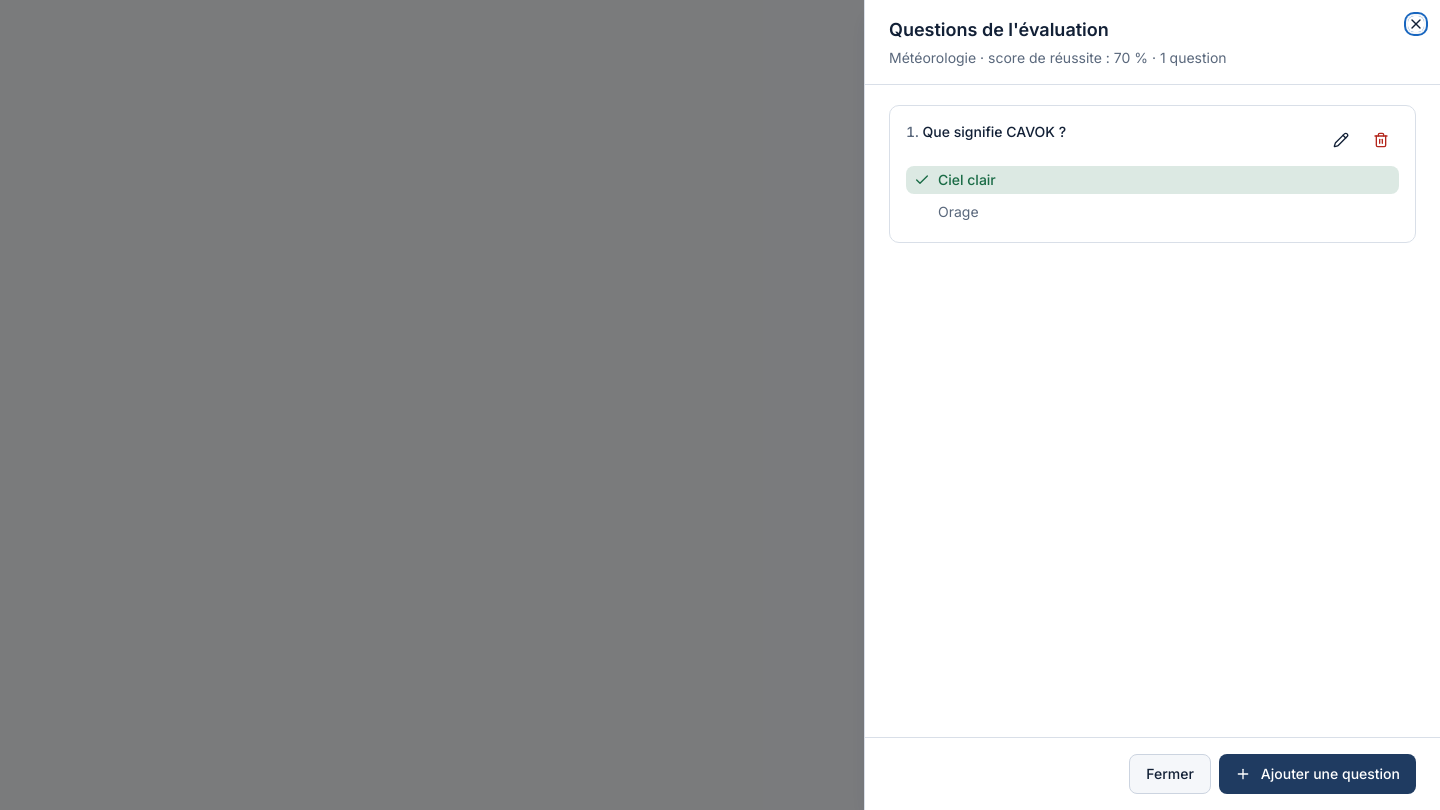
Test: QuestionsDialog › explique sous le champ ce qui manque avant d'ajouter une question
Click the button "Ajouter une question" at (1317, 774), box x1=1219 y1=754 x2=1416 y2=794
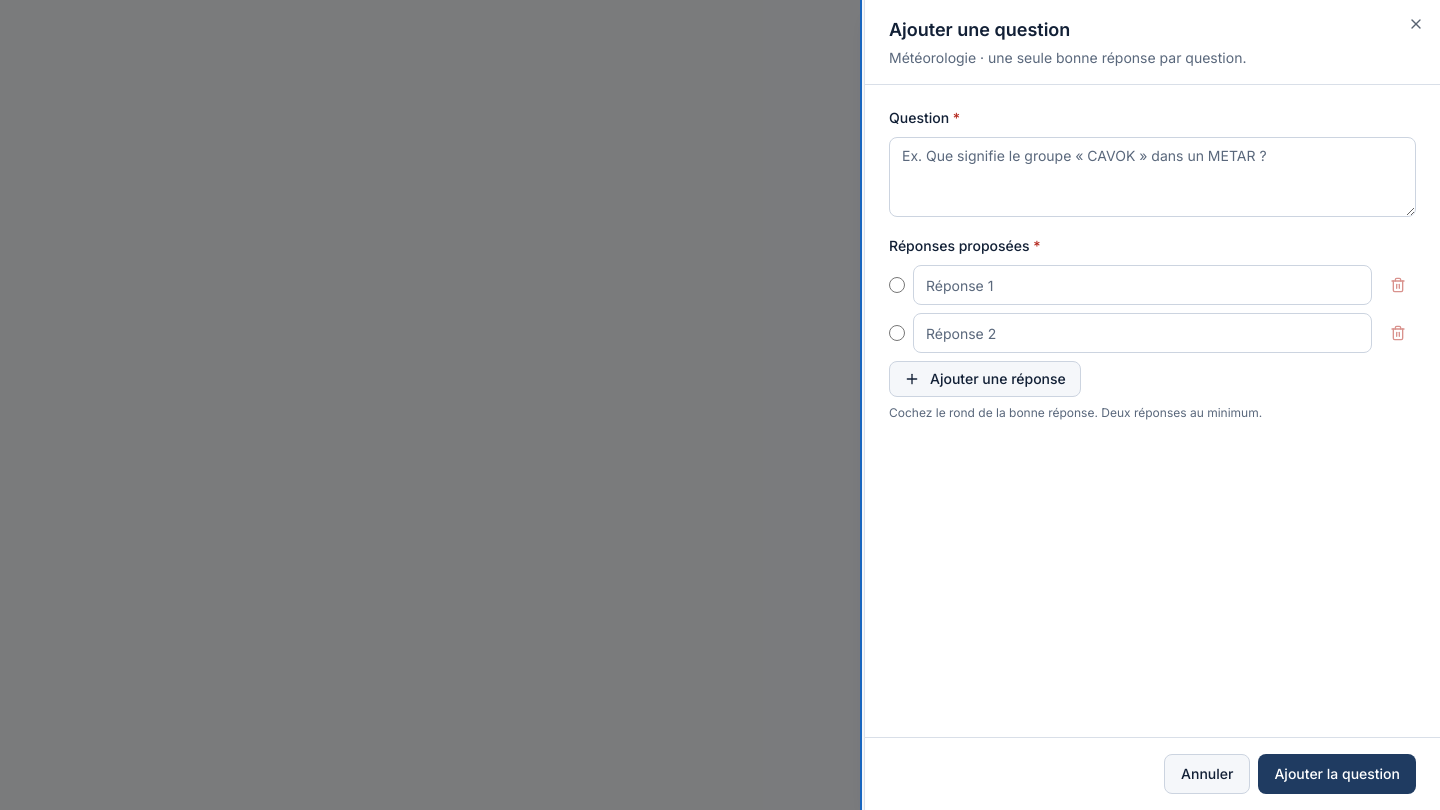
Click the button "Ajouter la question" at (1337, 774), box x1=1258 y1=754 x2=1416 y2=794
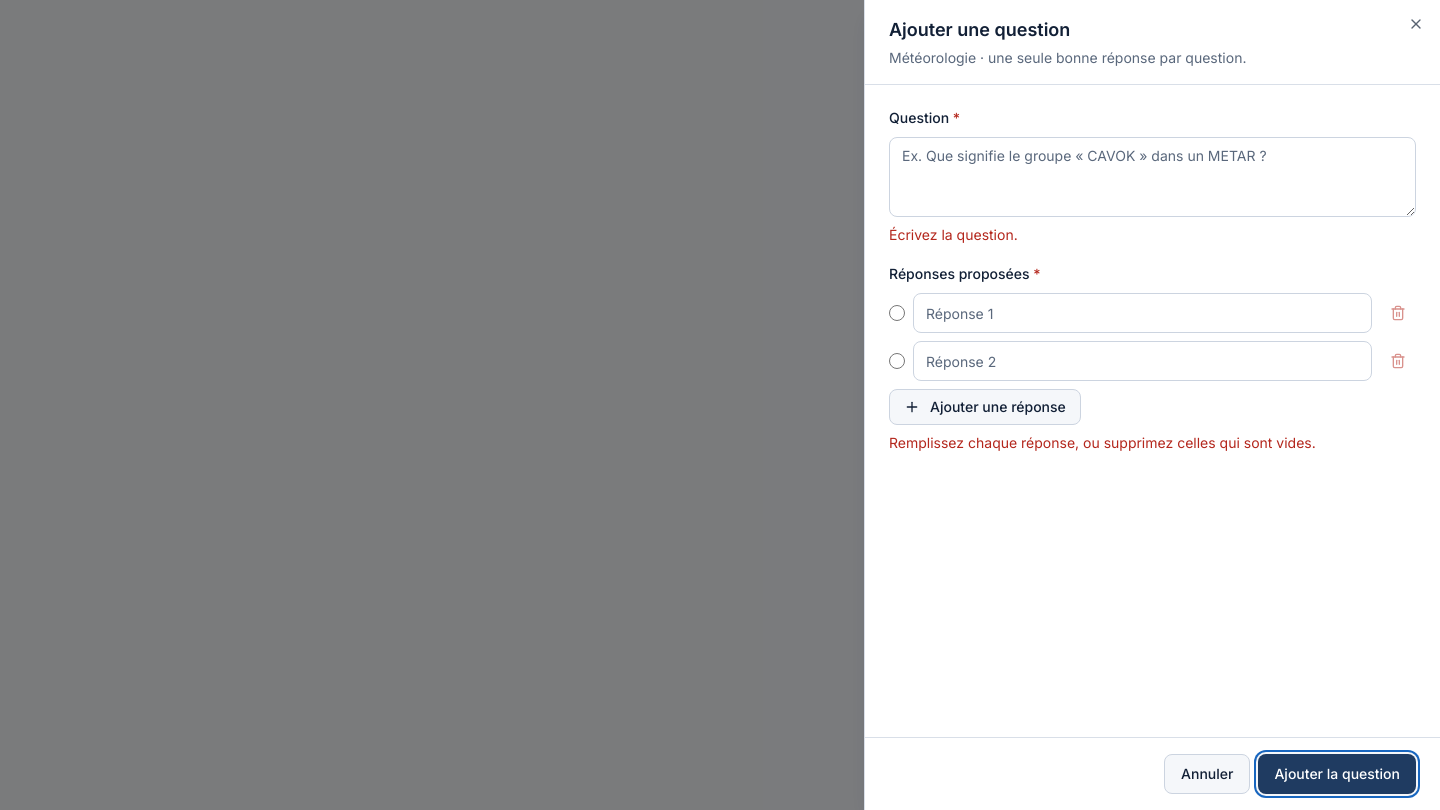
Check: the text "Écrivez la question." is shown, box x1=889 y1=226 x2=1018 y2=243
Check: the text "Remplissez chaque réponse, ou supprimez celles qui sont vides." is shown, box x1=889 y1=434 x2=1316 y2=451
Type "Quel vent ?" into the text box labelled "Question *" at (1152, 177), box x1=889 y1=137 x2=1416 y2=217
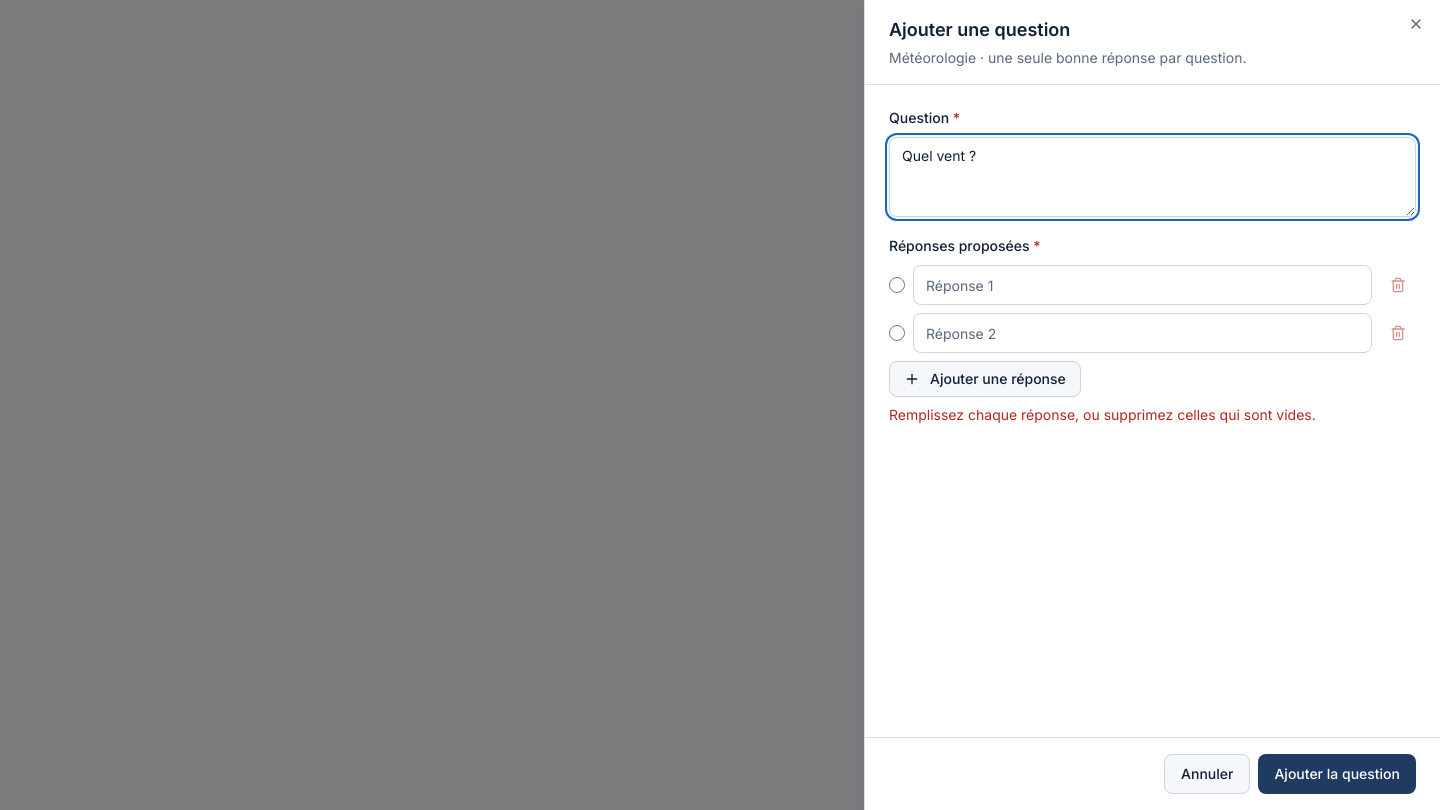
Type "Nord" into the field labelled "Réponse 1" at (1142, 285), box x1=913 y1=265 x2=1372 y2=305
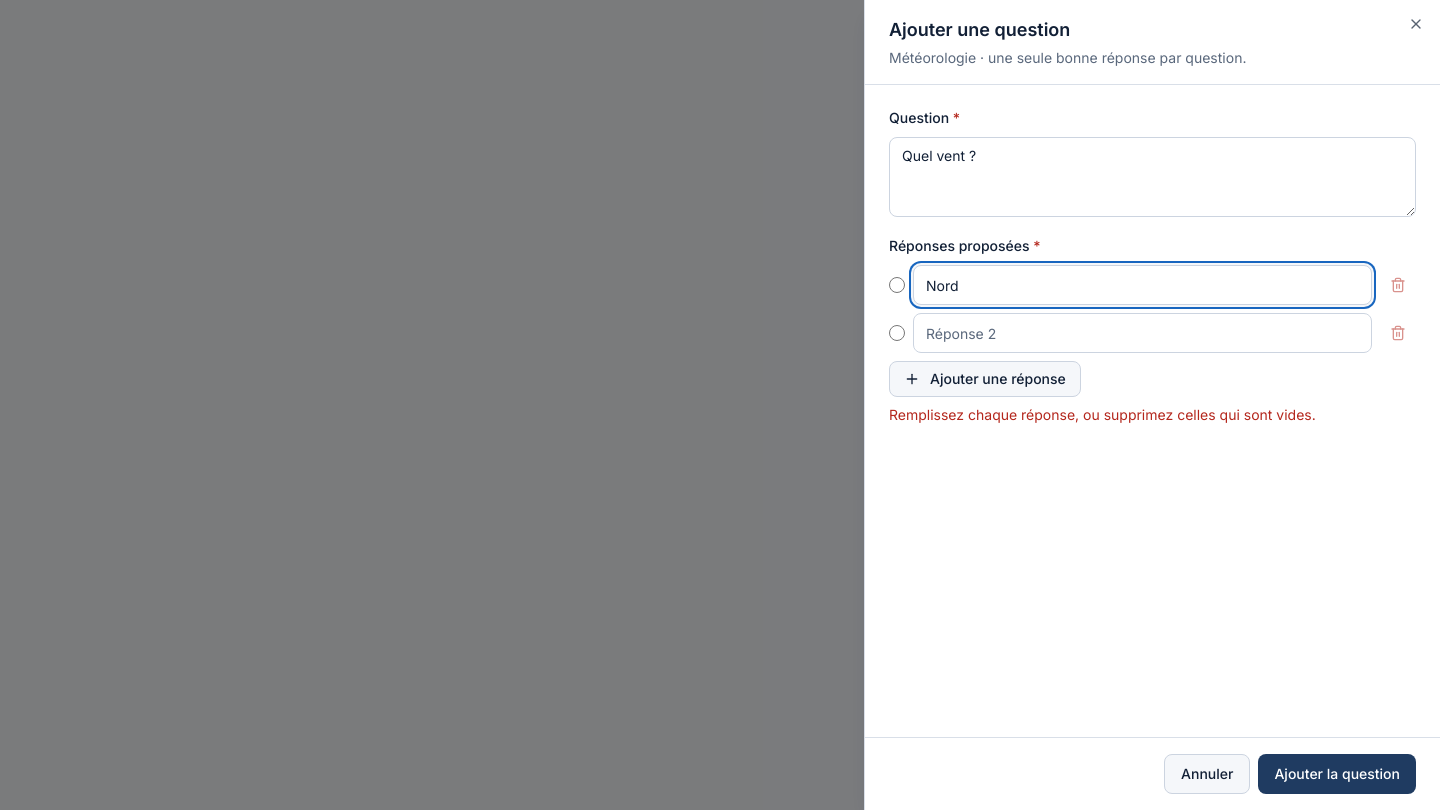
Type "Nord" into the field labelled "Réponse 2" at (1142, 333), box x1=913 y1=313 x2=1372 y2=353
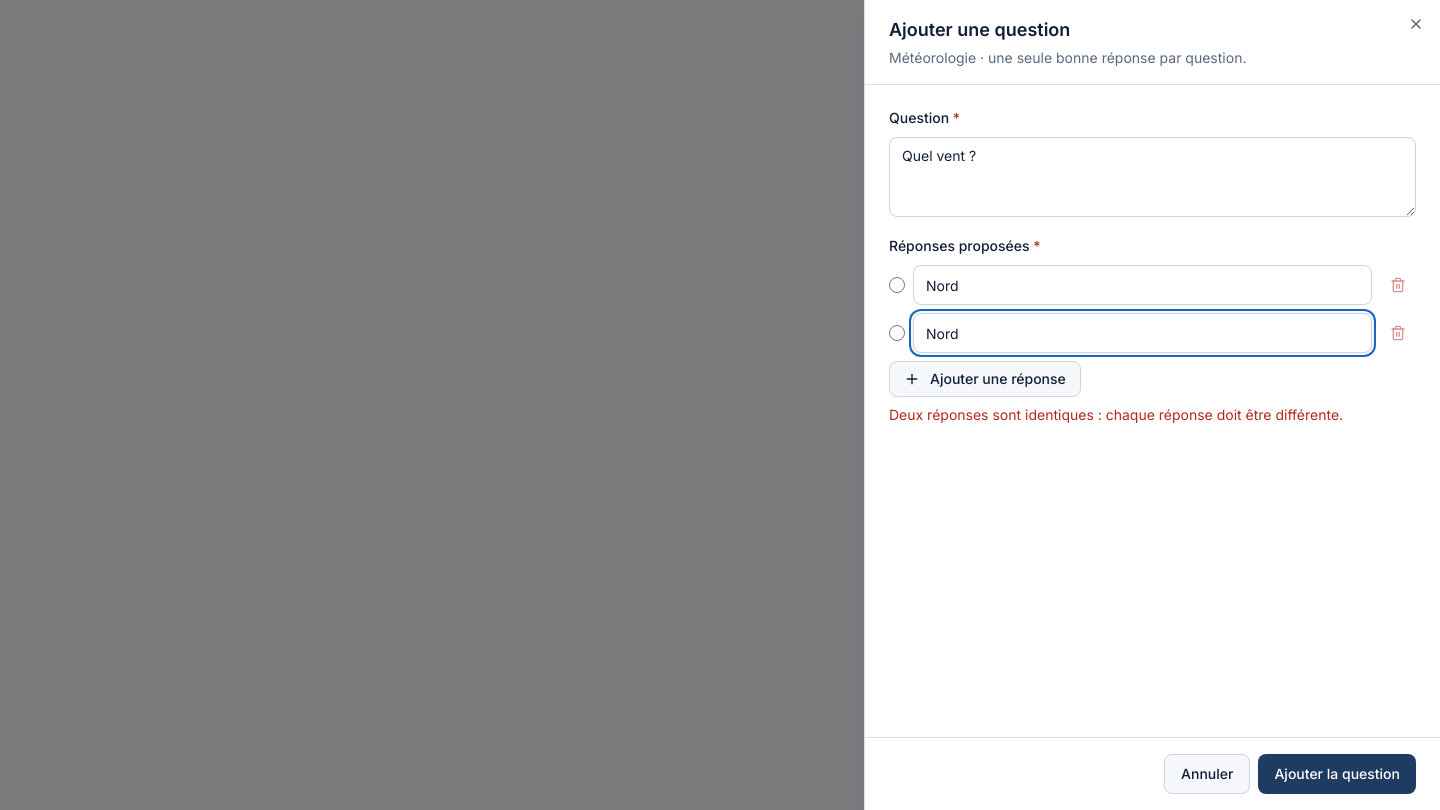
Check: the text "Deux réponses sont identiques : chaque réponse doit être différente." is shown, box x1=889 y1=405 x2=1416 y2=425
Type "-Est" into the field named "Réponse 2" at (1142, 333), box x1=913 y1=313 x2=1372 y2=353
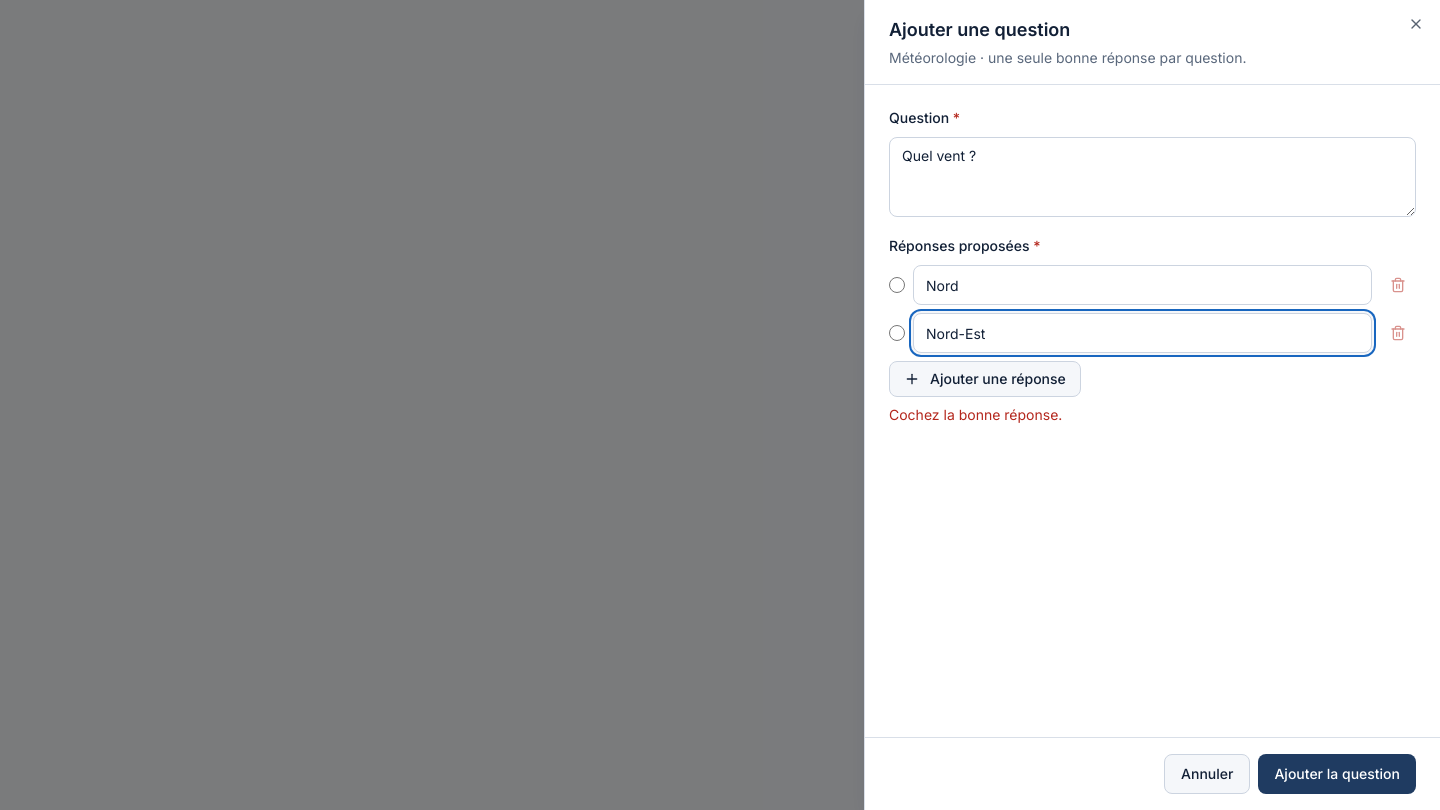
Check: the text "Cochez la bonne réponse." is shown, box x1=889 y1=406 x2=1062 y2=423
